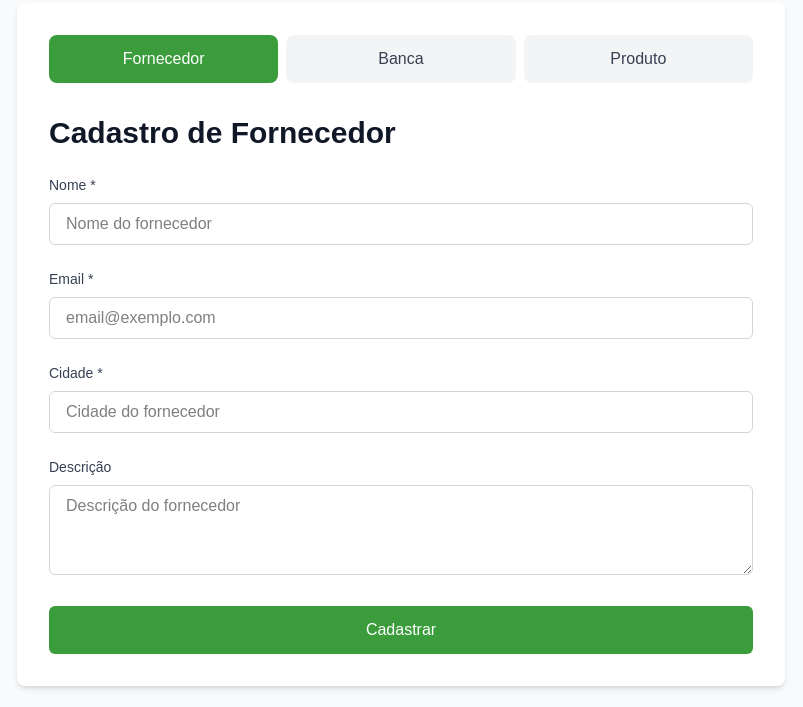
Test: FormCadastro - Testes Completos › Tratamento de Erros › deve desabilitar botão durante envio
This screenshot has width=803, height=707.
In the field labelled "Nome *": (401, 224) [49, 203, 753, 245], type "Teste"
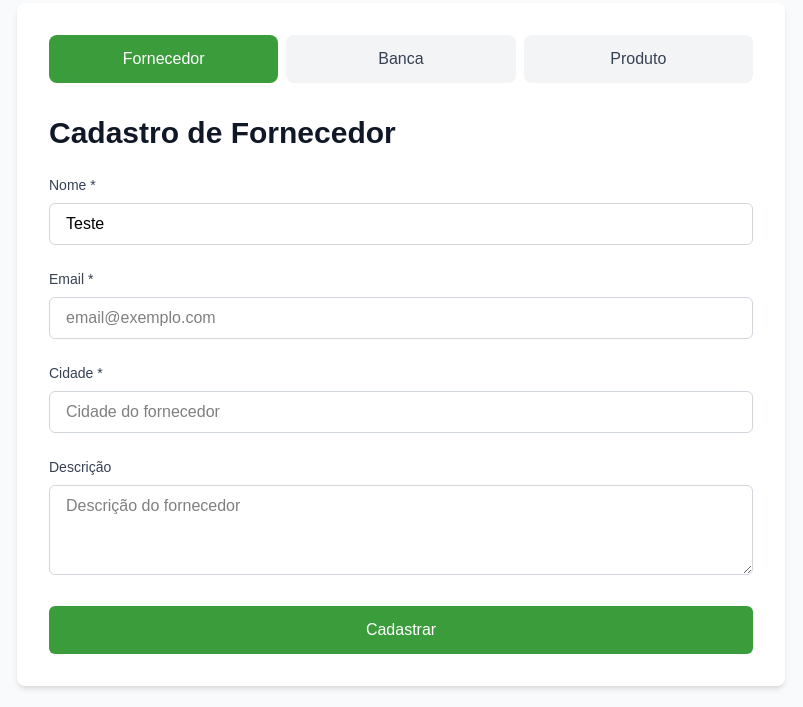
In the field labelled "Email *": (401, 318) [49, 297, 753, 339], type "teste@email.com"
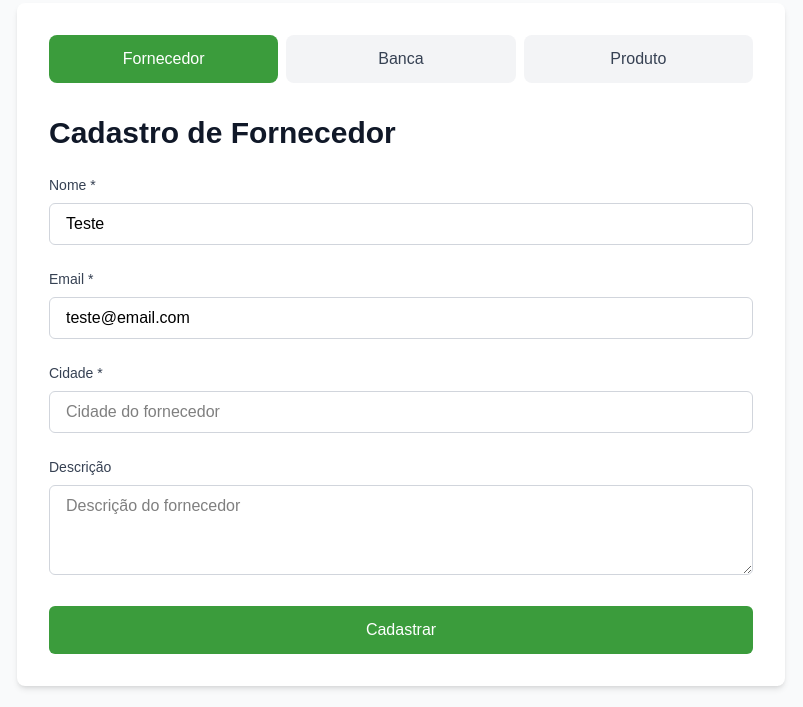
In the field labelled "Cidade *": (401, 412) [49, 391, 753, 433], type "Brasília"
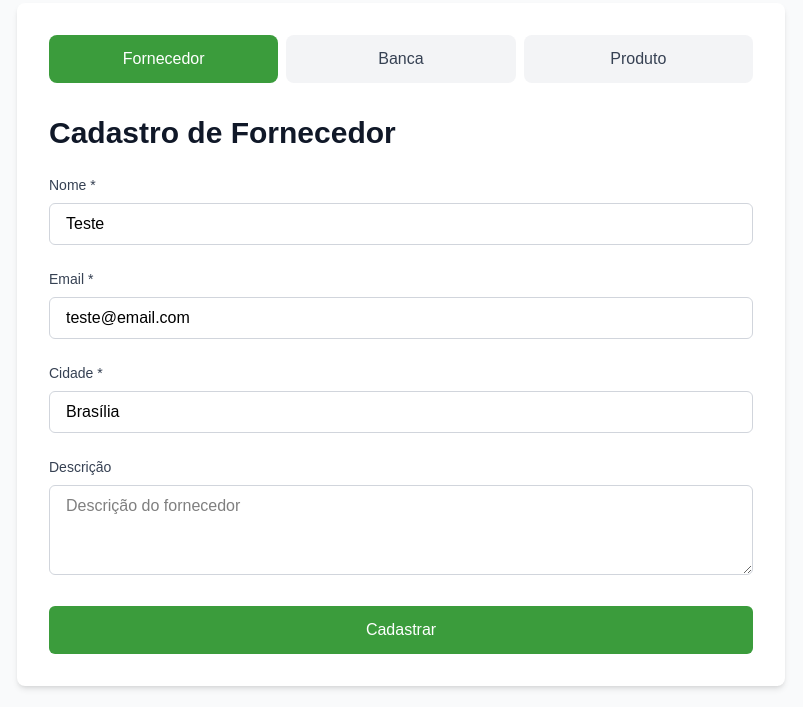
Click the button "Cadastrar": (401, 630) [49, 606, 753, 654]
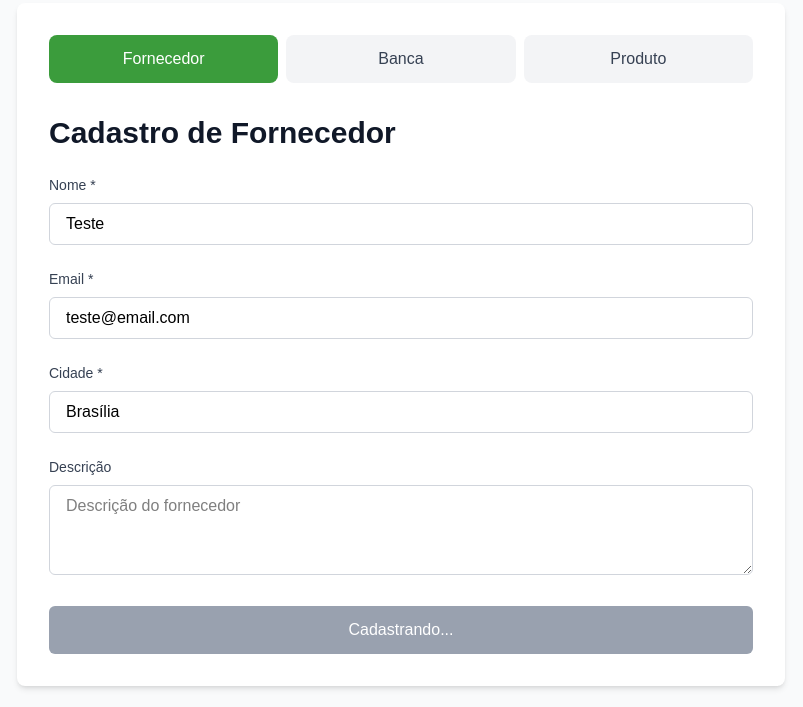
Result: the button named "Cadastrar" is disabled at [49, 606, 753, 654]
